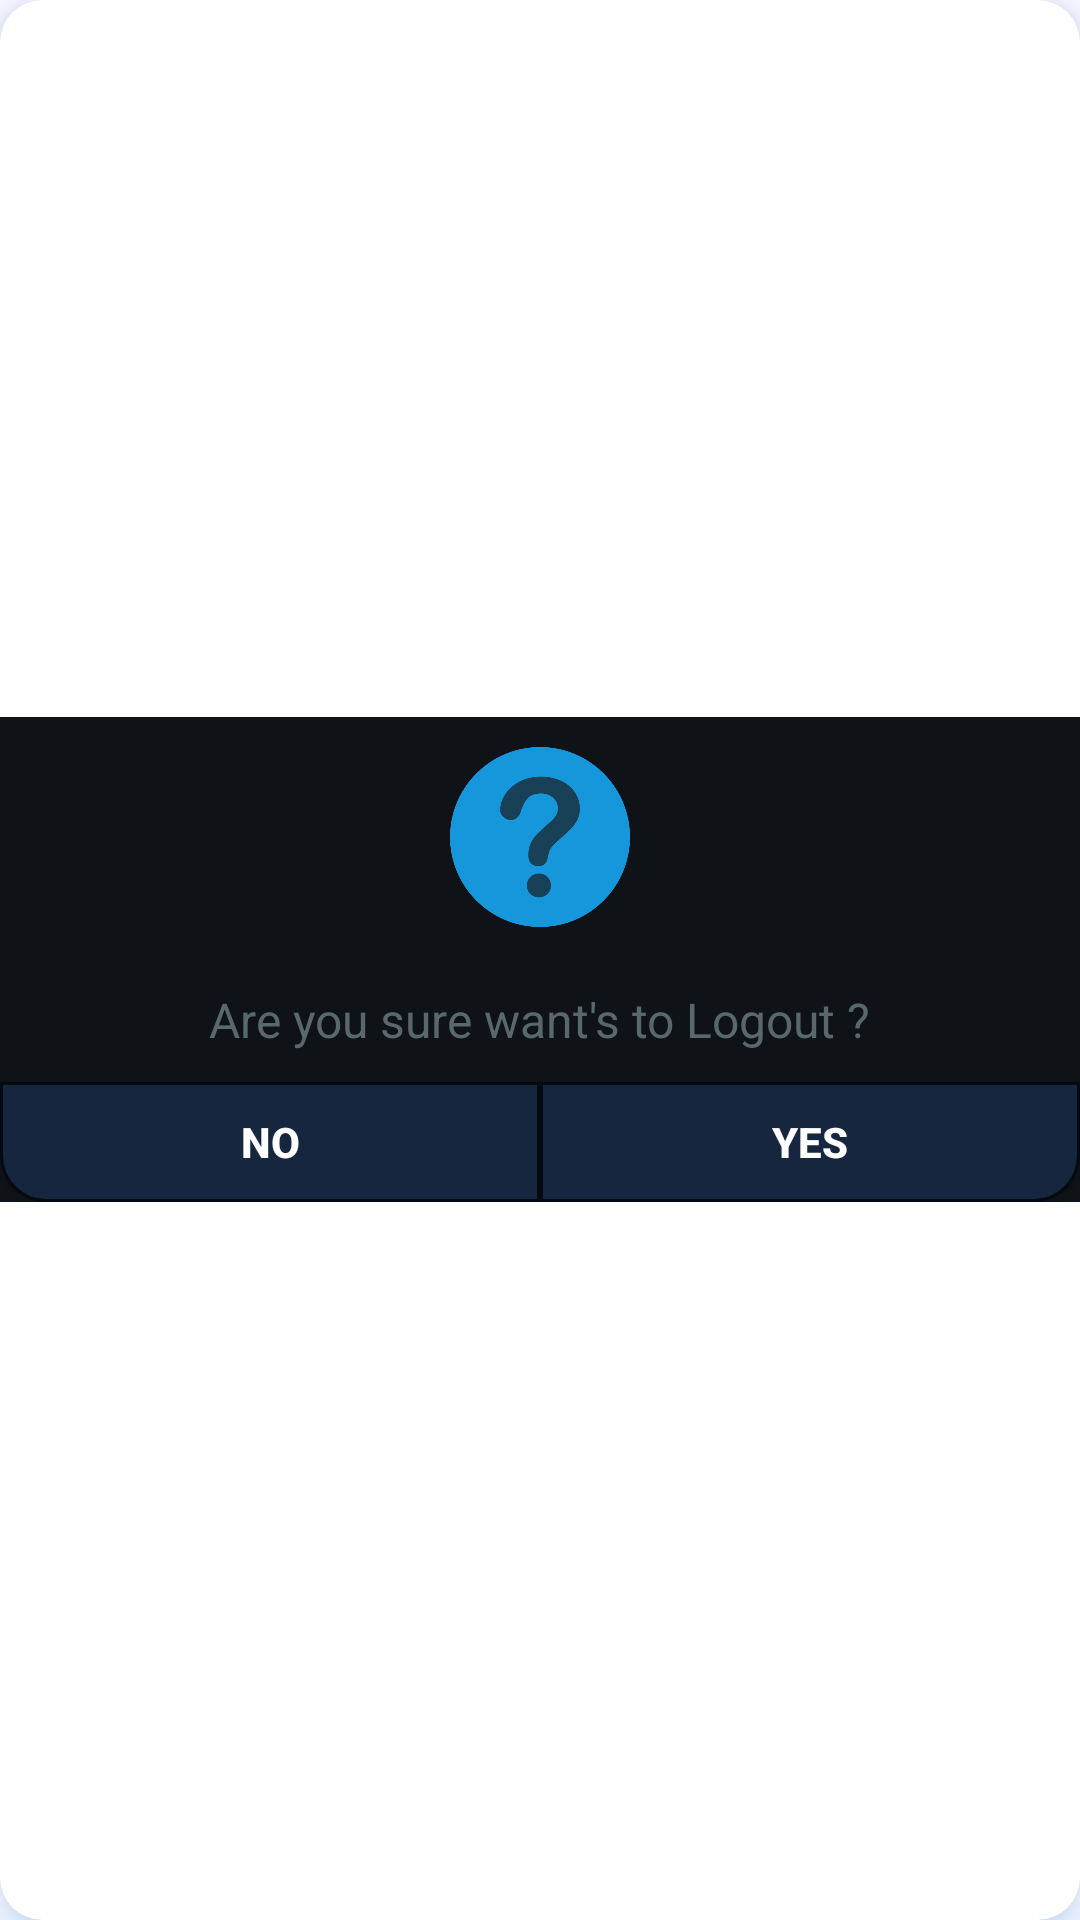

Locate icon controls on the screen. Image size 1080px x 1920px, boxes as [x1=x1, y1=y1, x2=x2, y2=y2].
question: [x1=450, y1=747, x2=630, y2=927]
